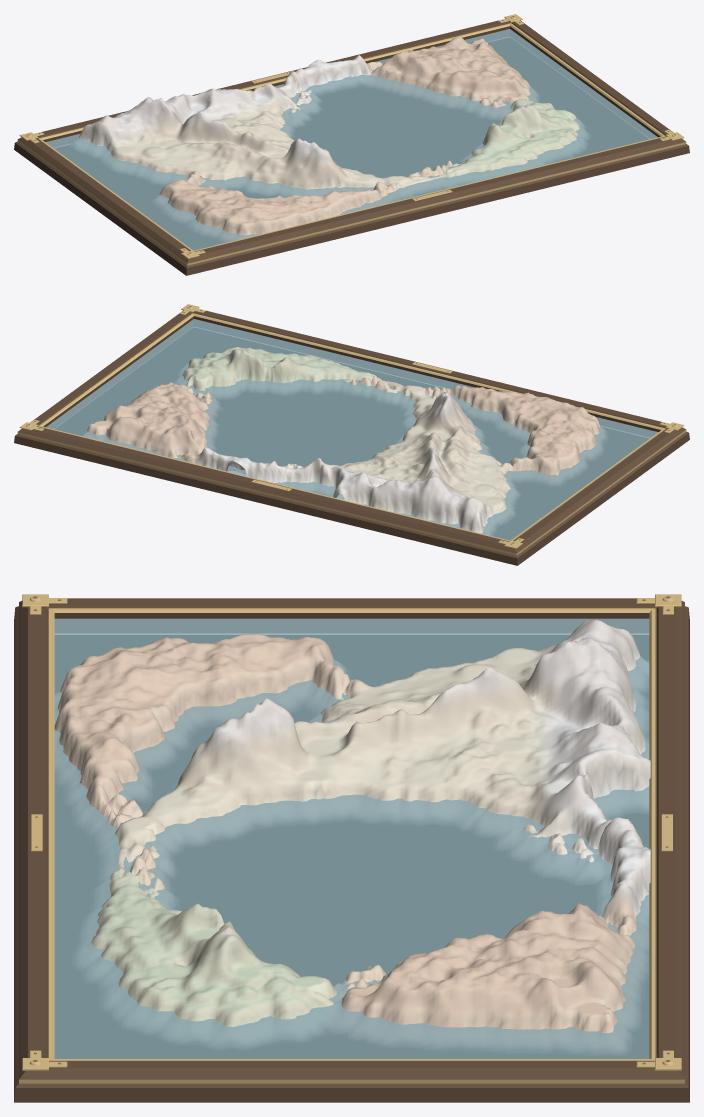
File: world_relief_world.glb
3 views of the same model, one above another, from view 1: azimuth 30°, elevation 25°; view 2: azimuth 150°, elevation 25°; view 3: azimuth 270°, elevation 25° (orthographic). The views are drawn at different scales.
Visible parts, largest first — view 1: TerrainSurface, OceanPlane, DioramaFrame; view 2: TerrainSurface, OceanPlane, DioramaFrame; view 3: TerrainSurface, OceanPlane, DioramaFrame.
Boxes of the visible parts, box(x1,y1,x2,y2) form: TerrainSurface: box(56, 36, 647, 249); OceanPlane: box(45, 29, 657, 250); DioramaFrame: box(14, 14, 689, 275); TerrainSurface: box(56, 328, 647, 539); OceanPlane: box(46, 319, 658, 540); DioramaFrame: box(14, 304, 689, 565); TerrainSurface: box(54, 619, 650, 1058); OceanPlane: box(54, 618, 649, 1058); DioramaFrame: box(14, 594, 689, 1102).
Size of the model in its own units: 17.96 by 1.6 by 10.65.
